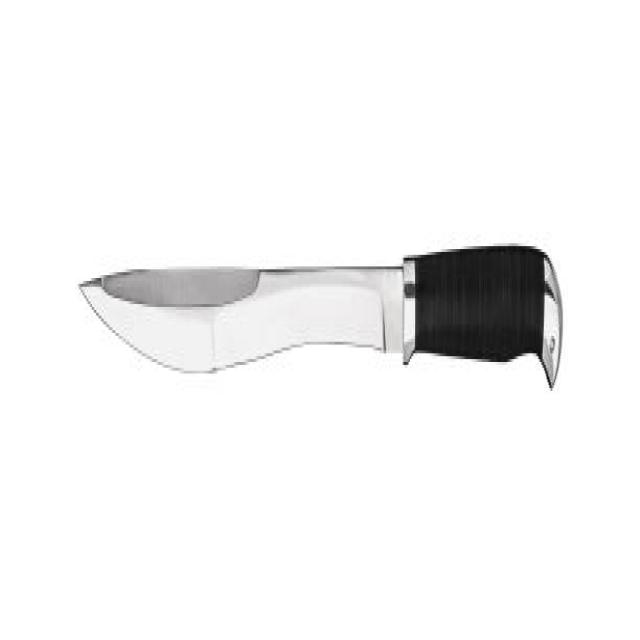knife: (75, 230, 569, 409)
